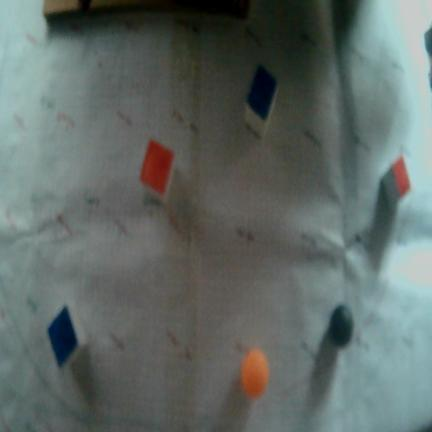circle_blue: (329, 306, 353, 348)
circle_orange: (241, 349, 269, 399)
rectangle_blue: (247, 66, 278, 125)
rectangle_orange: (247, 66, 278, 125), (394, 159, 411, 196)
square_blue: (47, 304, 78, 367)
square_orange: (140, 141, 174, 197)
